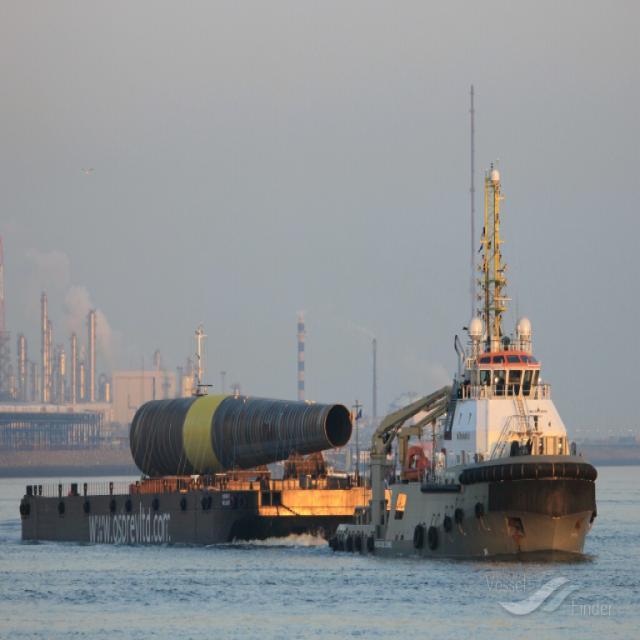OCR: (83, 502, 175, 548)
